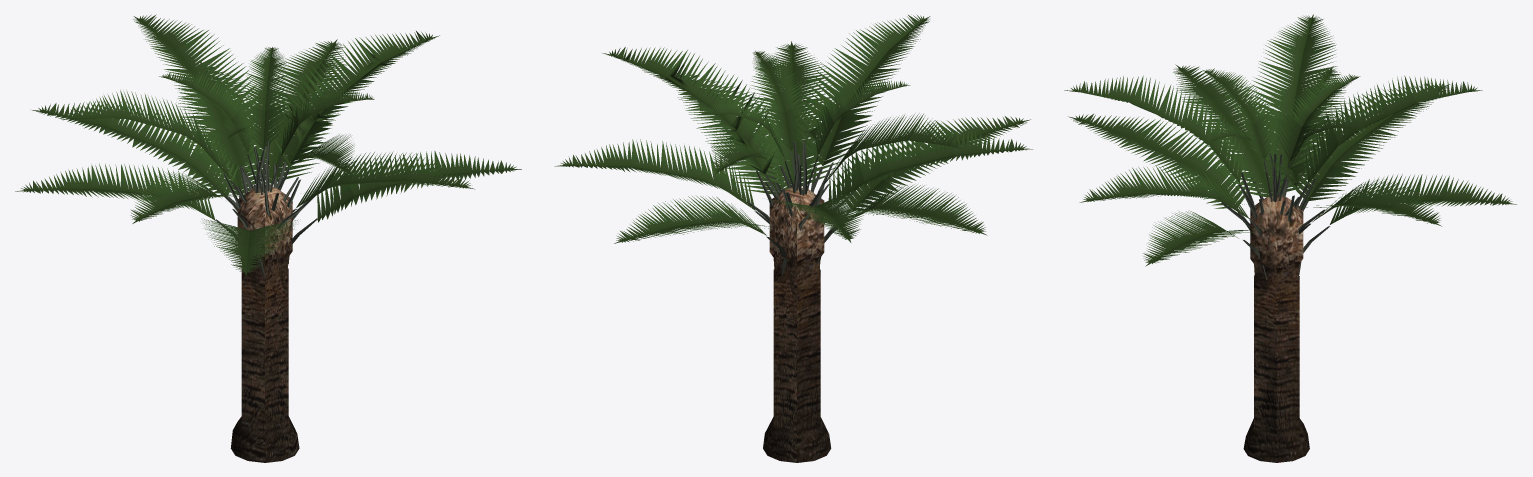
Rendered from cay-van-tue.glb.
The picture shows the model from 3 angles, left to right: view 1: azimuth 30°, elevation 25°; view 2: azimuth 150°, elevation 25°; view 3: azimuth 270°, elevation 25°; orthographic projection. The views are drawn at different scales.
Parts seen in each view (by area): view 1: Node; view 2: Node; view 3: Node.
Boxes of the visible parts, x1,y1,x2,y2 form: Node: (15,14,521,462); Node: (554,14,1032,462); Node: (1064,14,1516,462).
Bounding box in the file's own units: 3.07 × 2.59 × 3.04.
Materials: 1 (1 with a texture image).
